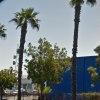Palm tree: (7, 3, 41, 100)
